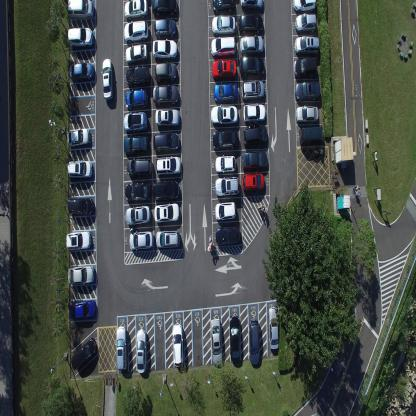car: (70, 336, 98, 372), (69, 298, 97, 323), (66, 194, 95, 217), (115, 325, 129, 371), (67, 263, 95, 286), (210, 317, 223, 366), (228, 314, 241, 363), (135, 328, 148, 376), (298, 123, 324, 147), (212, 128, 238, 152), (68, 25, 94, 49), (153, 131, 180, 154), (65, 230, 93, 252), (210, 104, 238, 126), (152, 83, 180, 105), (152, 179, 180, 201), (294, 33, 320, 56), (238, 56, 264, 79), (152, 39, 178, 62), (155, 156, 182, 178), (124, 180, 151, 202), (248, 318, 260, 366), (268, 304, 280, 352), (239, 34, 264, 57), (210, 36, 235, 59), (294, 80, 320, 102), (125, 204, 151, 226), (123, 134, 149, 156), (67, 159, 93, 181), (241, 149, 268, 170), (153, 202, 180, 223), (128, 229, 153, 251), (211, 59, 236, 81), (243, 125, 268, 147), (155, 108, 180, 130), (238, 12, 263, 34), (211, 14, 236, 36), (124, 20, 149, 42), (214, 176, 240, 197), (172, 323, 184, 368), (125, 42, 148, 65), (216, 224, 240, 246), (241, 172, 265, 194), (293, 56, 317, 78), (242, 102, 266, 124), (155, 228, 180, 249), (213, 82, 238, 103), (123, 111, 148, 132), (126, 158, 152, 178), (69, 62, 95, 82), (101, 57, 113, 100), (67, 0, 94, 19), (294, 12, 317, 34), (240, 80, 264, 101), (154, 62, 178, 83), (124, 89, 148, 110), (67, 128, 91, 149), (125, 68, 150, 88), (124, 0, 148, 20), (214, 200, 236, 221), (154, 17, 176, 38), (295, 103, 319, 122), (214, 154, 236, 173), (152, 0, 178, 15), (211, 0, 234, 14), (292, 0, 316, 12), (239, 0, 264, 11)
